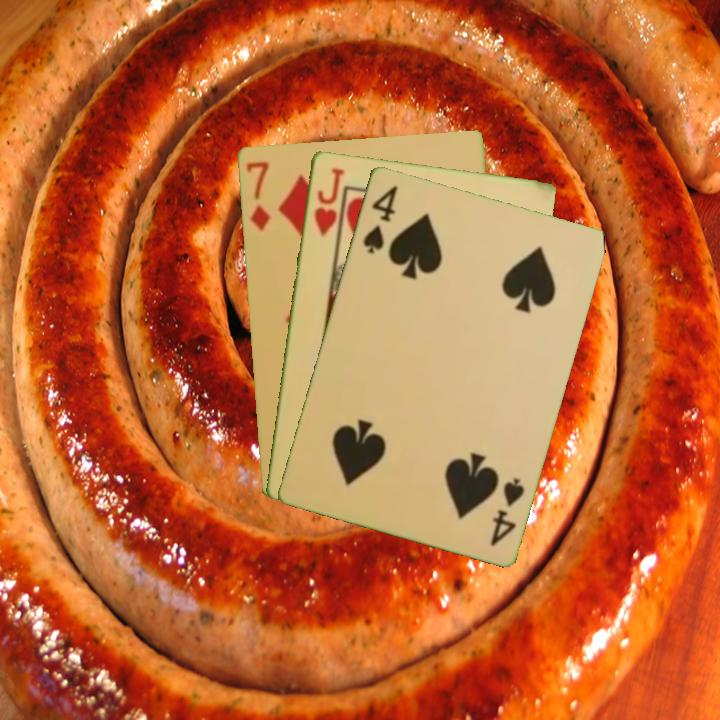4s: (359, 181, 401, 256), (486, 473, 528, 548)
7d: (242, 157, 273, 234)
Jh: (310, 164, 347, 239)
